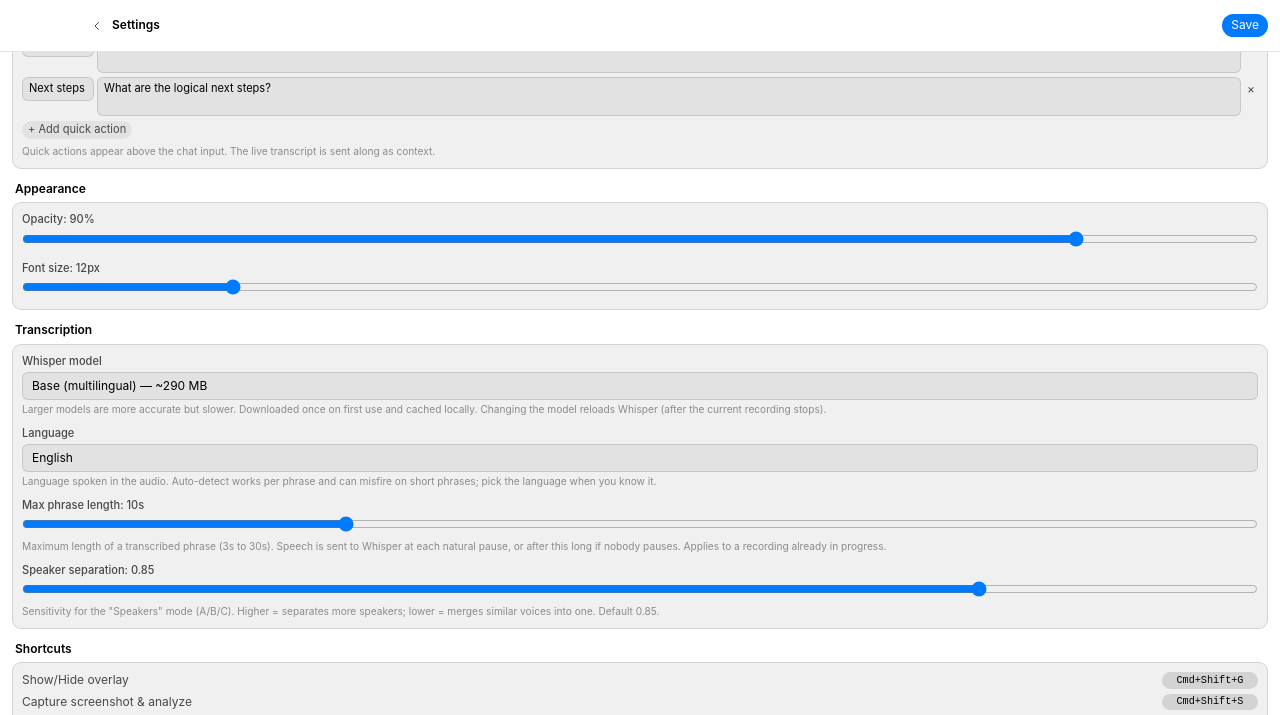
Scenario: SettingsPanel › whisper › should explain that English-only models ignore the language
This screenshot has width=1280, height=715.
(page scrolled)
expect the text "English-only model" is not shown: met
Select "Base (English only) — ~290 MB" in the dropdown labelled "Whisper model" at coordinates (640, 386), box x1=22 y1=372 x2=1258 y2=400
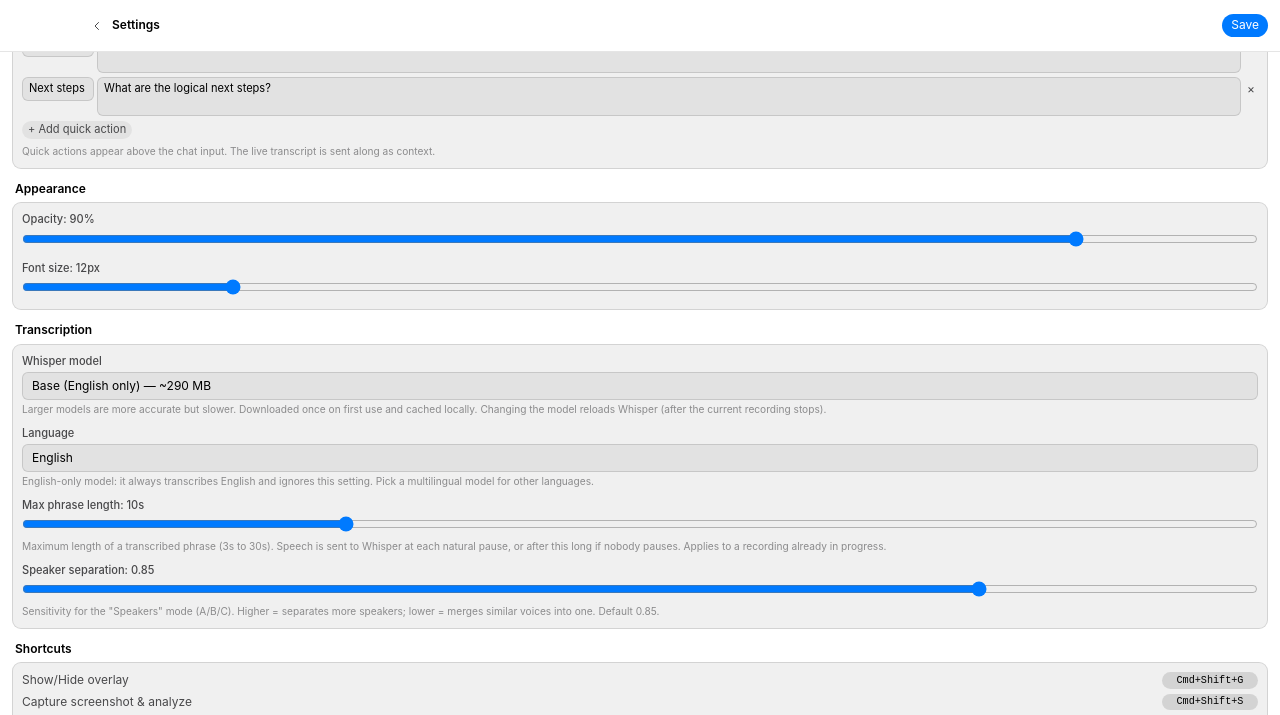
expect the text "English-only model" is shown: met, box x1=22 y1=475 x2=594 y2=487
